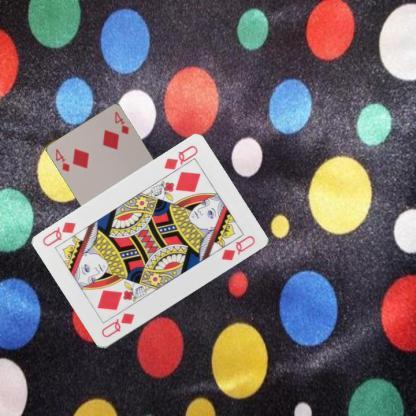4d: (53, 146, 71, 174)
Qd: (162, 142, 200, 178), (98, 310, 136, 339)
